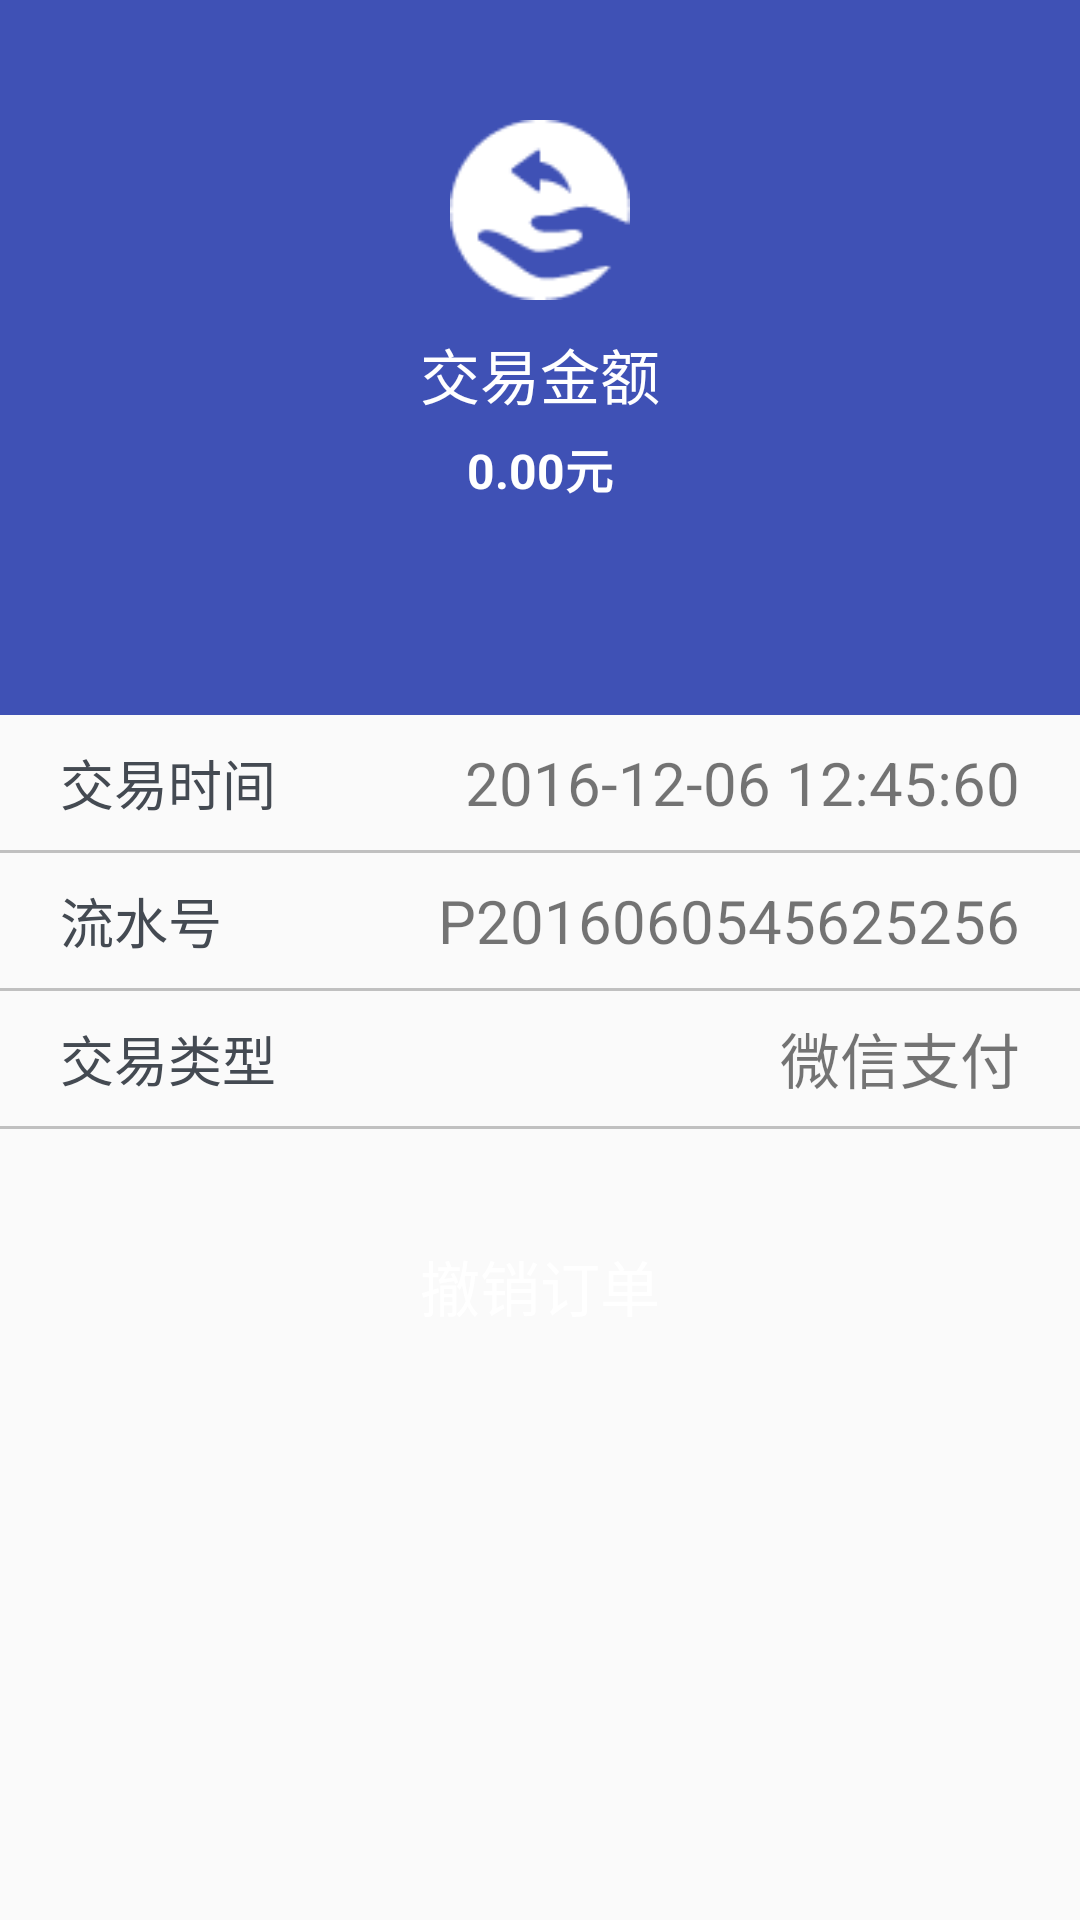

Screen size 1080px x 1920px. Icon name, then its box in pixels as BBox(x1, y1, x2, y2):
chexiao bill: BBox(450, 120, 630, 300)
